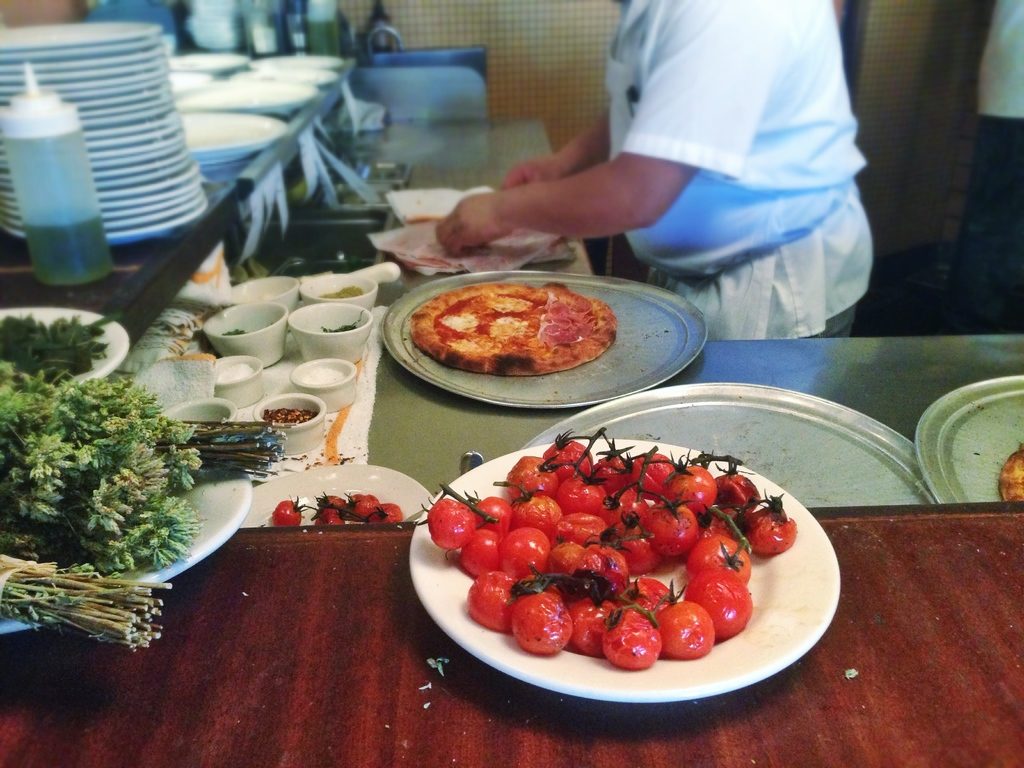Pizza: (402, 261, 607, 403)
